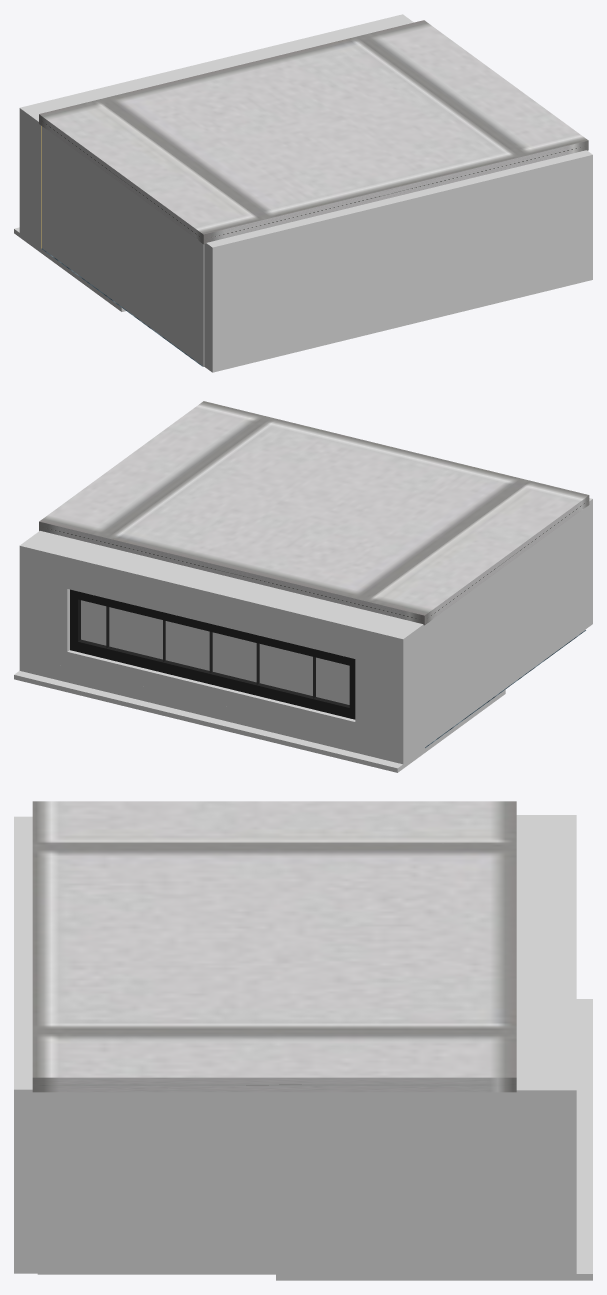
Rendered from nice_big_empty_room.glb.
3 renders of one model, top to bottom at view 1: azimuth 30°, elevation 25°; view 2: azimuth 150°, elevation 25°; view 3: azimuth 270°, elevation 25°, orthographic. The views are drawn at different scales.
Visible parts, largest first — view 1: Cube.002, Cube, Cube.003; view 2: Cube.002, Cube, Cube.003; view 3: Cube, Cube.002, Cube.003.
Boxes of the visible parts, bbox=[...] form: Cube.002: bbox=[19, 14, 592, 372]; Cube: bbox=[39, 20, 588, 244]; Cube.003: bbox=[14, 227, 202, 366]; Cube.002: bbox=[19, 498, 592, 764]; Cube: bbox=[39, 401, 589, 625]; Cube.003: bbox=[14, 630, 585, 772]; Cube: bbox=[32, 801, 516, 1092]; Cube.002: bbox=[14, 815, 576, 1275]; Cube.003: bbox=[276, 999, 592, 1280].
Bounding box in the file's own units: 82.22 × 28.23 × 72.77.
8 materials, 2 textured.
